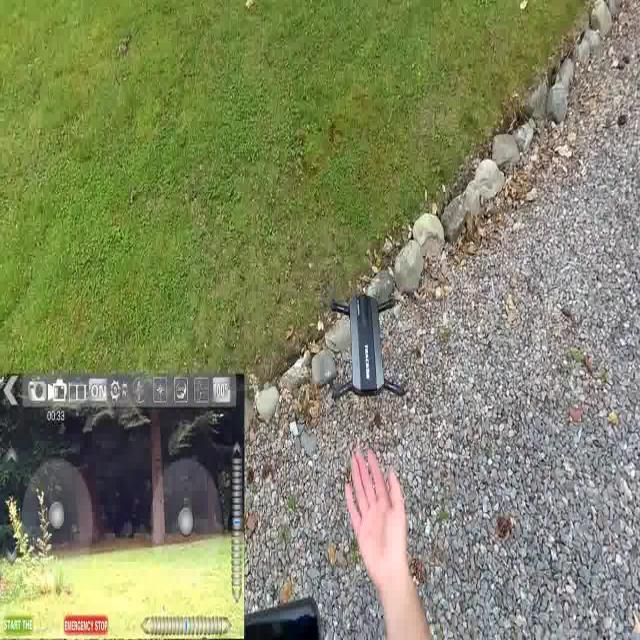drone: (325, 286, 410, 411)
